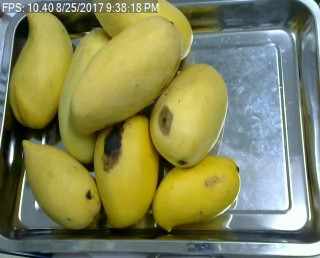Mango: (76, 19, 180, 128), (151, 61, 234, 170), (11, 139, 102, 234), (7, 9, 76, 125), (89, 119, 160, 229), (156, 156, 242, 240), (87, 0, 193, 62)
